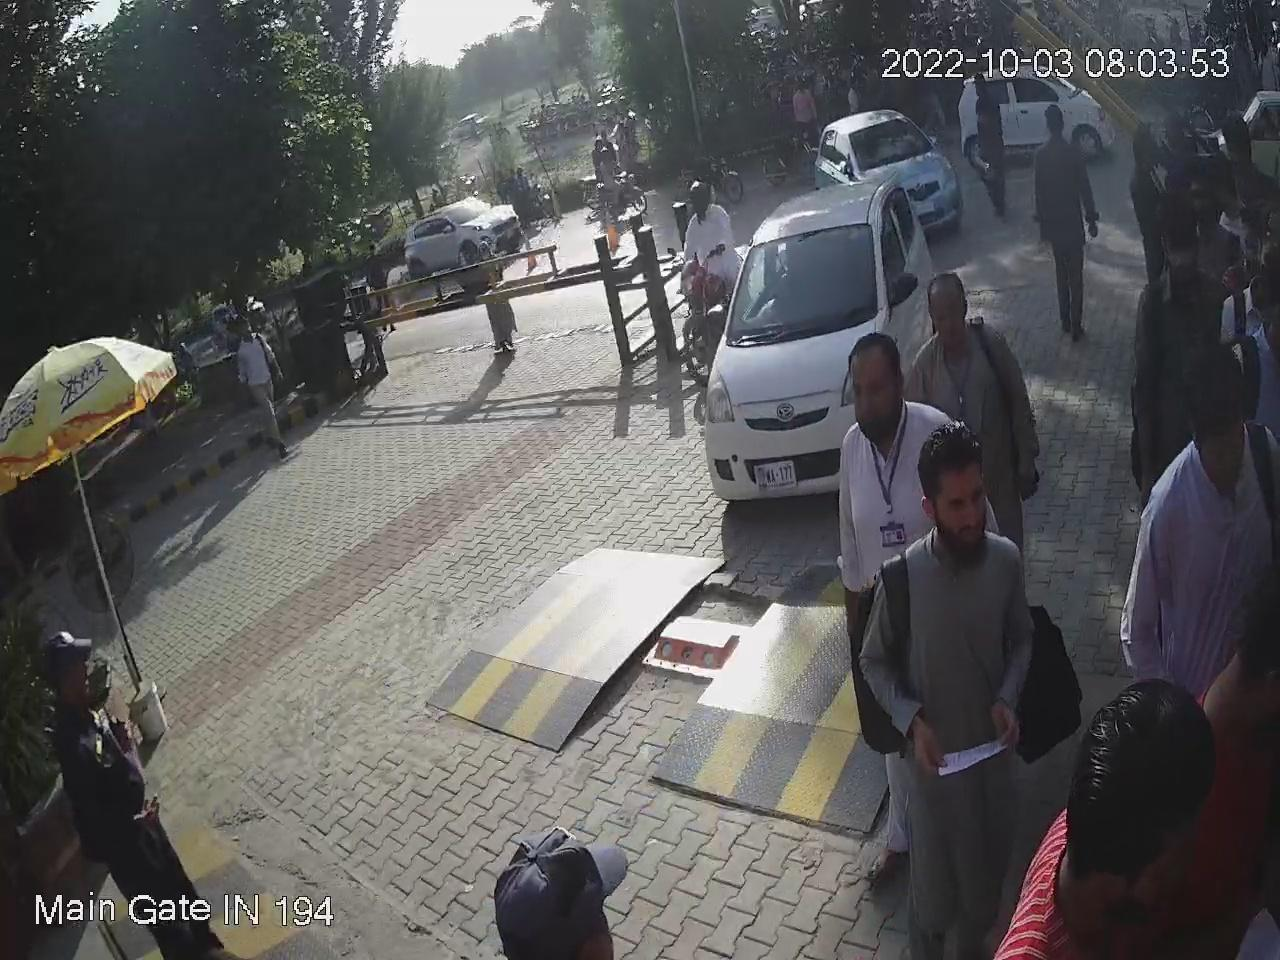windshield: (728, 215, 880, 345)
